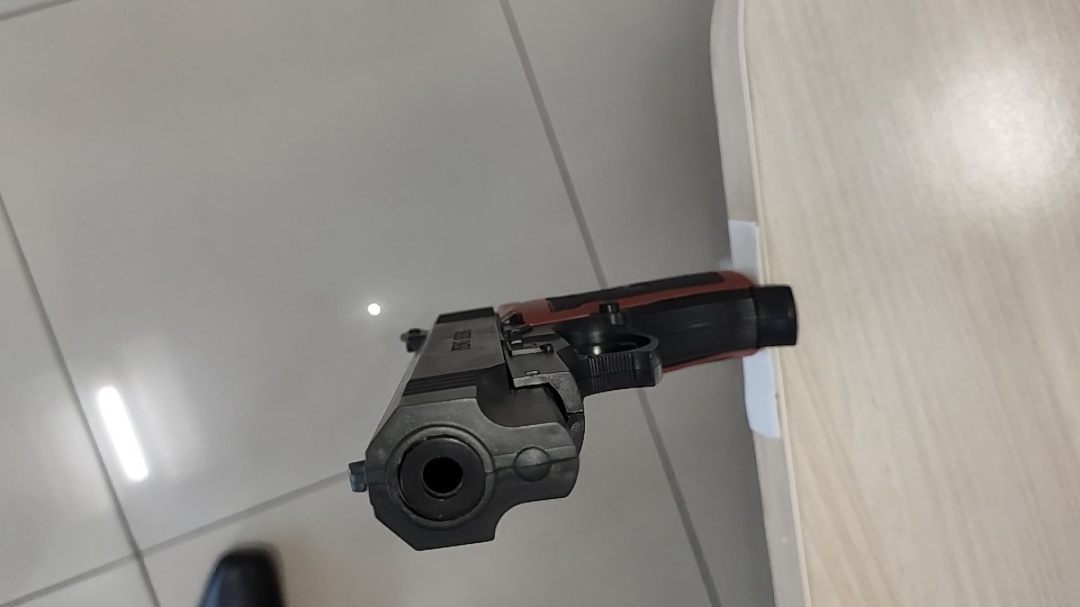gun: (386, 201, 413, 246)
